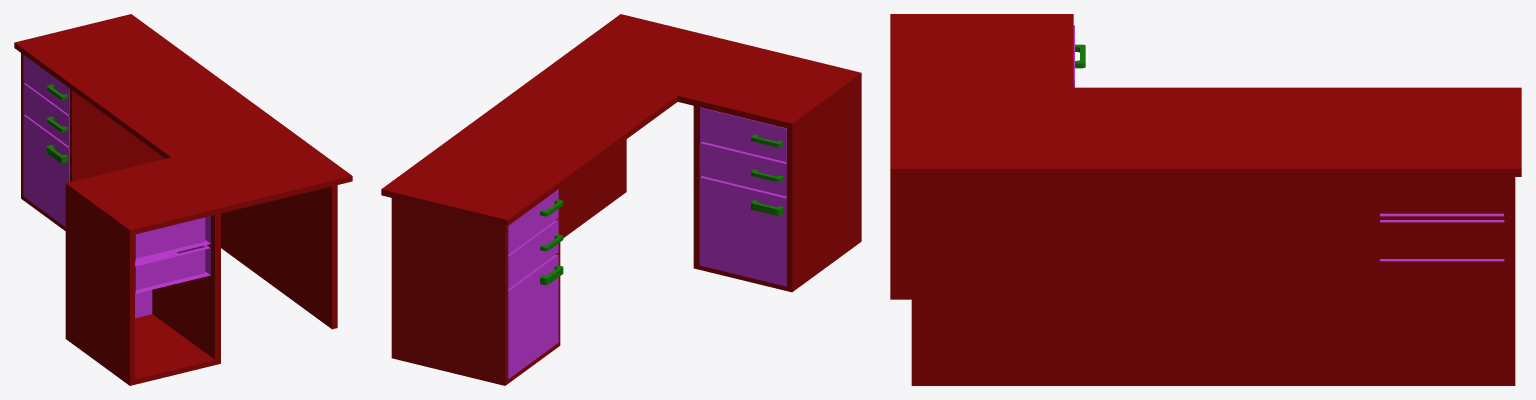
File: aazz.fbx
The picture shows the model from 3 angles, left to right: view 1: azimuth 30°, elevation 25°; view 2: azimuth 150°, elevation 25°; view 3: azimuth 270°, elevation 25°; orthographic projection. The views are drawn at different scales.
Parts seen in each view (by area): view 1: Bureau, Tir_007, Tir_005, Tir_003, Tir_008, Tir_006, Tir_004; view 2: Bureau, Tir_004, Tir_007, Tir_005, Tir_003, Tir_008, Tir_006; view 3: Bureau, Tir_008.
Boxes of the visible parts, bbox=[...] form: Bureau: bbox=[14, 14, 352, 385]; Tir_007: bbox=[23, 115, 69, 226]; Tir_005: bbox=[135, 245, 210, 293]; Tir_003: bbox=[135, 216, 210, 261]; Tir_008: bbox=[23, 83, 69, 146]; Tir_006: bbox=[23, 55, 69, 115]; Tir_004: bbox=[135, 290, 152, 318]; Bureau: bbox=[381, 14, 861, 385]; Tir_004: bbox=[699, 176, 786, 286]; Tir_007: bbox=[508, 254, 563, 379]; Tir_005: bbox=[699, 141, 786, 196]; Tir_003: bbox=[700, 107, 786, 162]; Tir_008: bbox=[508, 220, 563, 288]; Tir_006: bbox=[508, 189, 563, 254]; Bureau: bbox=[890, 14, 1521, 385]; Tir_008: bbox=[1380, 220, 1504, 261].
Size of the model in its own units: 108 by 72.17 by 186.
